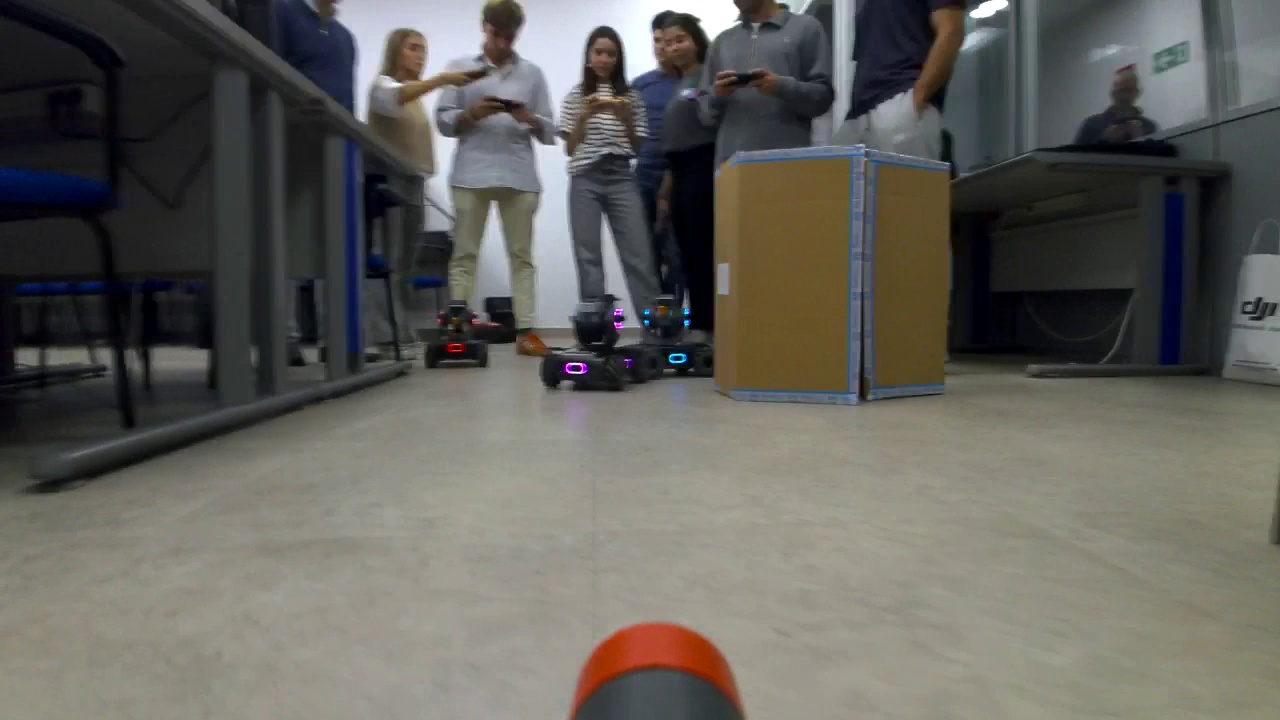robot: (536, 290, 651, 390), (648, 290, 715, 375), (420, 303, 491, 365)
